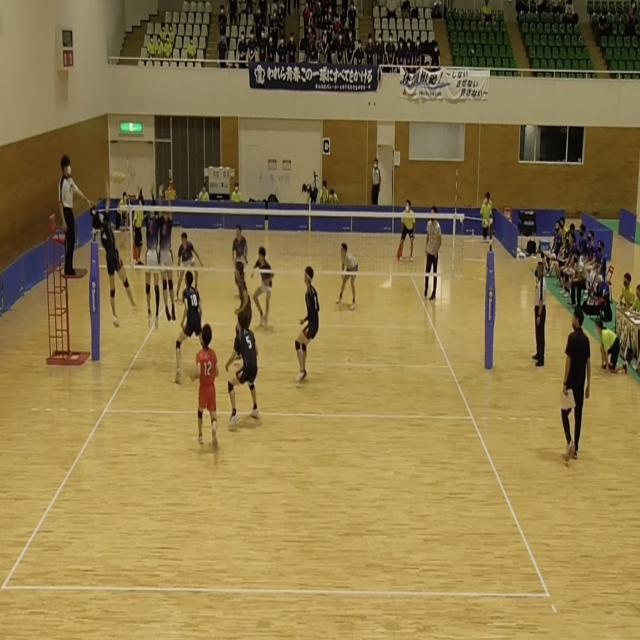spike: (93, 168, 139, 334)
